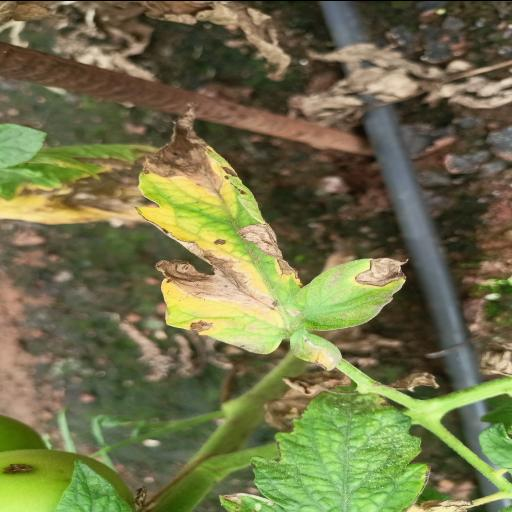Early Blight: (132, 100, 410, 354)
